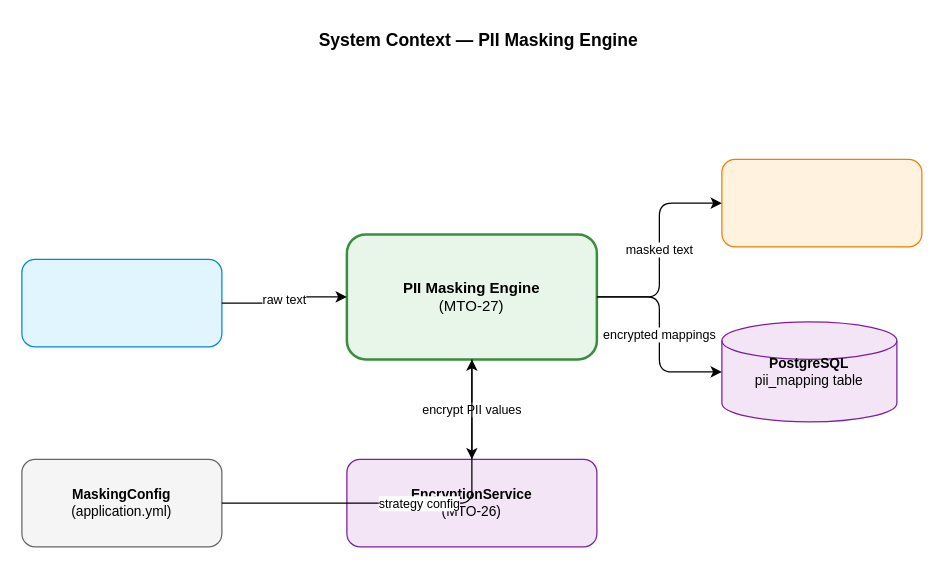
Some shapes in this 944 by 569 pixel diagram are drawn without their labels. The centre of each missing label's shape, as x and y in pixels:
KB Ingestion Pipeline (Caller): [121,302]
LLM Service (Downstream): [821,202]
